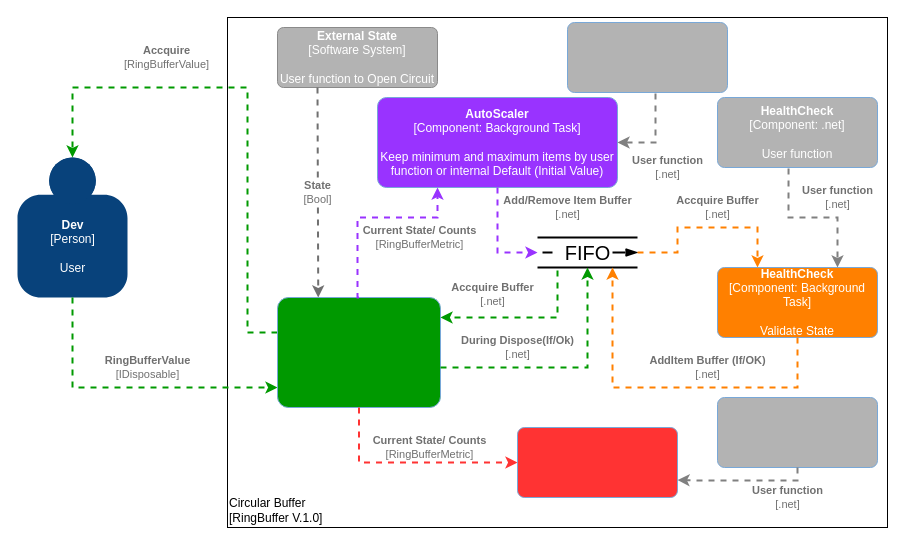
Some shapes in this 905 by 545 pixel diagram are drawn without their labels. The centre of each missing label's shape, as x and y in pixels:
"Factory [Component: User function] Create Item" belongs at [647,57].
"Manager State [Component: Internal] Count / Events / Circuit Breaker / Policies" belongs at [358,352].
"MetricsReport [Component: .net] User function" belongs at [797,432].
"MetricsReport [Component: Background Task] Background Task" belongs at [597,462].
